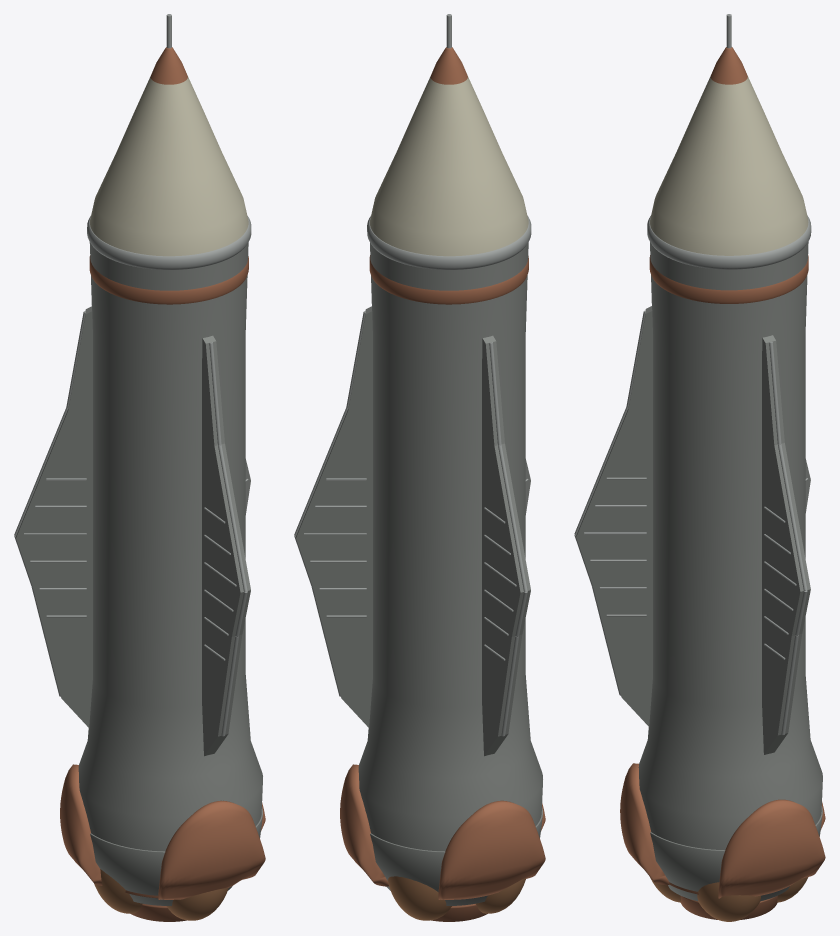
File: mega-missile.glb
The picture shows the model from 3 angles, left to right: view 1: azimuth 30°, elevation 25°; view 2: azimuth 150°, elevation 25°; view 3: azimuth 270°, elevation 25°; orthographic projection.
Parts seen in each view (by area): view 1: Mega cylindrical pressure casing, Mega ivory nose cone, Mega solid diamond vane.002, Mega solid diamond vane, Mega thick copper lower panel, Mega hollow lower casing, Mega thick copper lower panel.002, Mega upper silver nose collar, Mega copper nose retaining band, Research directional thrust chamber 3, Research directional thrust chamber 2, Mega copper nose tip (+2 smaller); view 2: Mega cylindrical pressure casing, Mega ivory nose cone, Mega solid diamond vane.001, Mega solid diamond vane.002, Mega thick copper lower panel.002, Mega hollow lower casing, Mega thick copper lower panel.001, Mega upper silver nose collar, Mega copper nose retaining band, Research directional thrust chamber 1, Mega copper nose tip, Research directional thrust chamber 2 (+2 smaller); view 3: Mega cylindrical pressure casing, Mega ivory nose cone, Mega solid diamond vane, Mega solid diamond vane.001, Mega thick copper lower panel.001, Mega hollow lower casing, Mega thick copper lower panel, Mega upper silver nose collar, Mega copper nose retaining band, Research directional thrust chamber 0, Mega copper nose tip, Mega hollow copper nozzle (+1 smaller).
Boxes of the visible parts, x1=… form: Mega cylindrical pressure casing: x1=78, y1=242, x2=262, y2=851; Mega ivory nose cone: x1=90, y1=76, x2=248, y2=256; Mega solid diamond vane.002: x1=16, y1=306, x2=92, y2=727; Mega solid diamond vane: x1=202, y1=335, x2=250, y2=756; Mega thick copper lower panel: x1=158, y1=800, x2=265, y2=899; Mega hollow lower casing: x1=90, y1=807, x2=262, y2=905; Mega thick copper lower panel.002: x1=60, y1=764, x2=102, y2=885; Mega upper silver nose collar: x1=87, y1=216, x2=251, y2=269; Mega copper nose retaining band: x1=89, y1=255, x2=248, y2=304; Research directional thrust chamber 3: x1=166, y1=888, x2=228, y2=920; Research directional thrust chamber 2: x1=94, y1=869, x2=142, y2=913; Mega copper nose tip: x1=150, y1=47, x2=187, y2=84; Mega cylindrical pressure casing: x1=358, y1=242, x2=542, y2=851; Mega ivory nose cone: x1=370, y1=76, x2=528, y2=256; Mega solid diamond vane.001: x1=296, y1=306, x2=372, y2=727; Mega solid diamond vane.002: x1=482, y1=335, x2=530, y2=756; Mega thick copper lower panel.002: x1=438, y1=800, x2=545, y2=899; Mega hollow lower casing: x1=370, y1=808, x2=542, y2=905; Mega thick copper lower panel.001: x1=340, y1=764, x2=388, y2=886; Mega upper silver nose collar: x1=367, y1=215, x2=531, y2=269; Mega copper nose retaining band: x1=369, y1=255, x2=528, y2=304; Research directional thrust chamber 1: x1=388, y1=876, x2=451, y2=920; Mega copper nose tip: x1=430, y1=47, x2=467, y2=84; Research directional thrust chamber 2: x1=475, y1=878, x2=525, y2=913; Mega cylindrical pressure casing: x1=638, y1=241, x2=822, y2=850; Mega ivory nose cone: x1=650, y1=76, x2=808, y2=255; Mega solid diamond vane: x1=576, y1=306, x2=652, y2=726; Mega solid diamond vane.001: x1=762, y1=335, x2=810, y2=754; Mega thick copper lower panel.001: x1=718, y1=799, x2=825, y2=898; Mega hollow lower casing: x1=650, y1=806, x2=822, y2=901; Mega thick copper lower panel: x1=620, y1=763, x2=669, y2=885; Mega upper silver nose collar: x1=647, y1=215, x2=811, y2=269; Mega copper nose retaining band: x1=649, y1=255, x2=808, y2=303; Research directional thrust chamber 0: x1=697, y1=882, x2=760, y2=921; Mega copper nose tip: x1=710, y1=47, x2=747, y2=84; Mega hollow copper nozzle: x1=680, y1=895, x2=777, y2=919.
Bounding box in the file's own units: 1.79 × 6.46 × 1.66.
